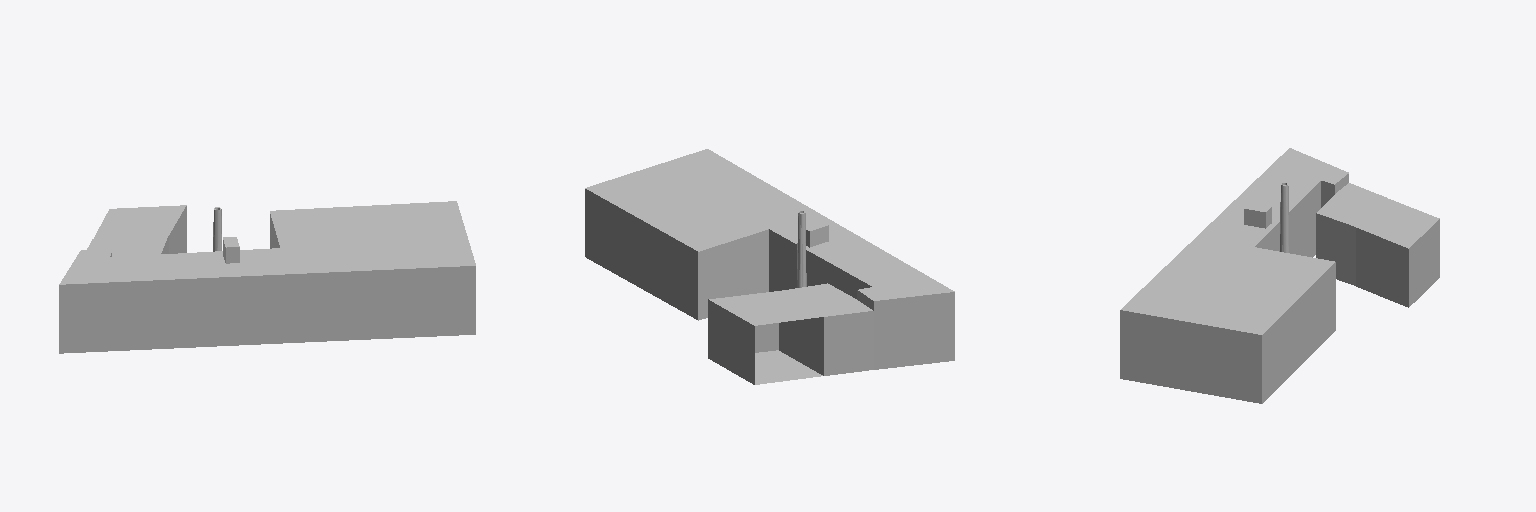
File: office_1.obj
The picture shows the model from 3 angles: view 1: azimuth 30°, elevation 25°; view 2: azimuth 150°, elevation 25°; view 3: azimuth 270°, elevation 25°; orthographic projection.
Parts seen in each view (by area): view 1: object_1; view 2: object_1; view 3: object_1.
Boxes of the visible parts, x1,y1,x2,y2 form: object_1: [59, 201, 475, 353]; object_1: [585, 149, 954, 384]; object_1: [1120, 148, 1439, 403].
Bounding box in the file's own units: 373 × 101 × 269.